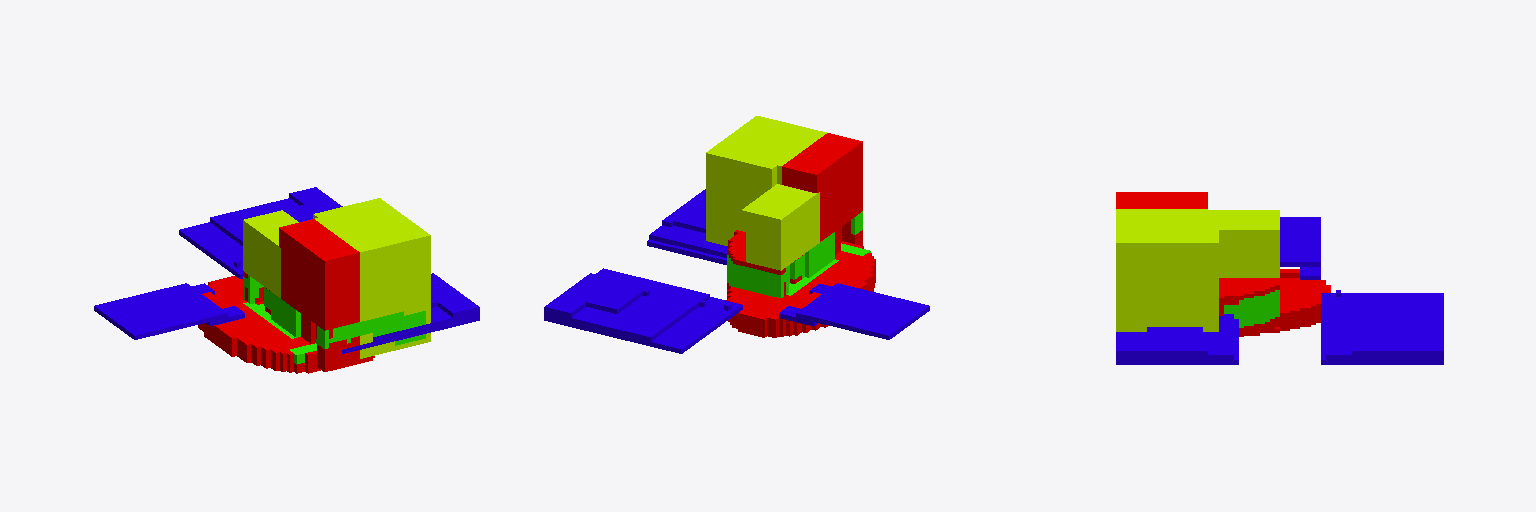
3 views of the same model, side by side, from view 1: azimuth 30°, elevation 25°; view 2: azimuth 150°, elevation 25°; view 3: azimuth 270°, elevation 25° (orthographic).
Bounding box in the file's own units: 128 × 50 × 128.
1 materials, 1 textured.